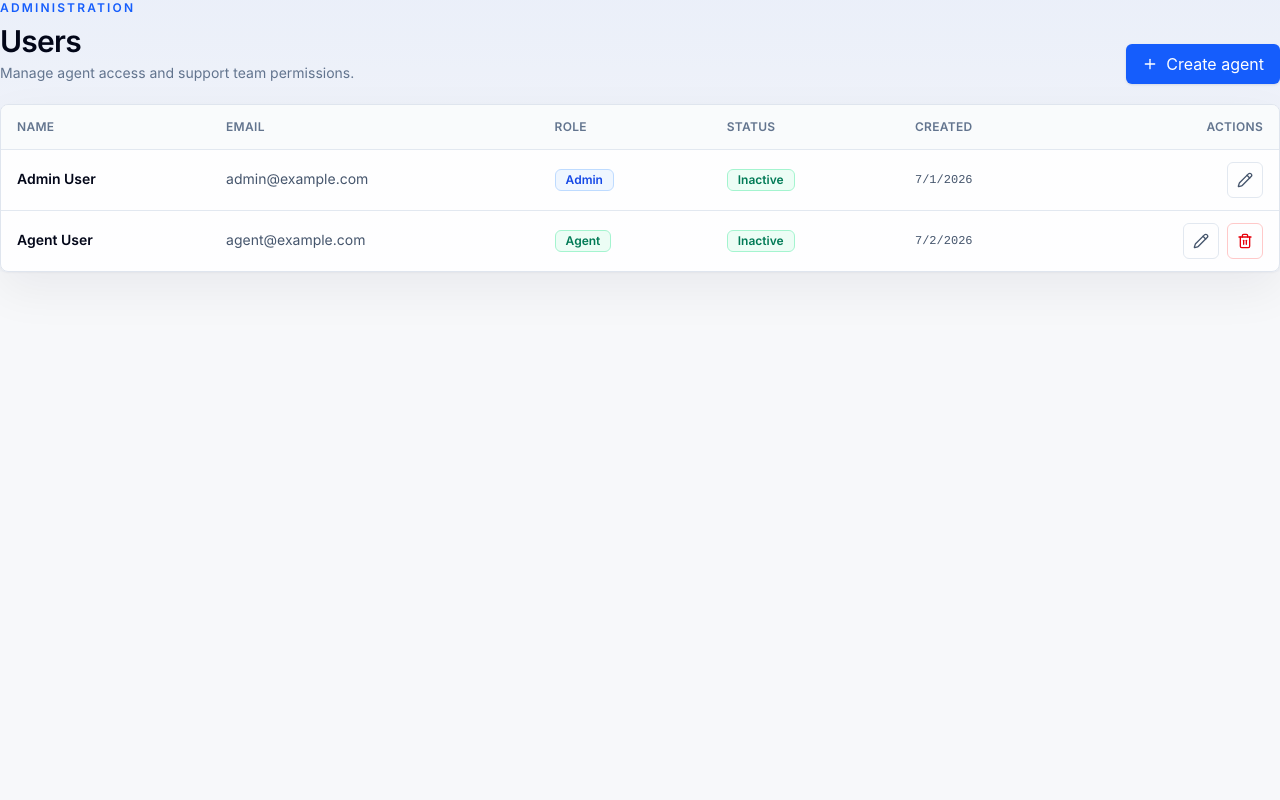
UsersPage › shows the edit-agent dialog with the selected user values
The image size is (1280, 800).
Click the button named "Edit Agent User" at (1201, 240), box [1183, 222, 1219, 258]
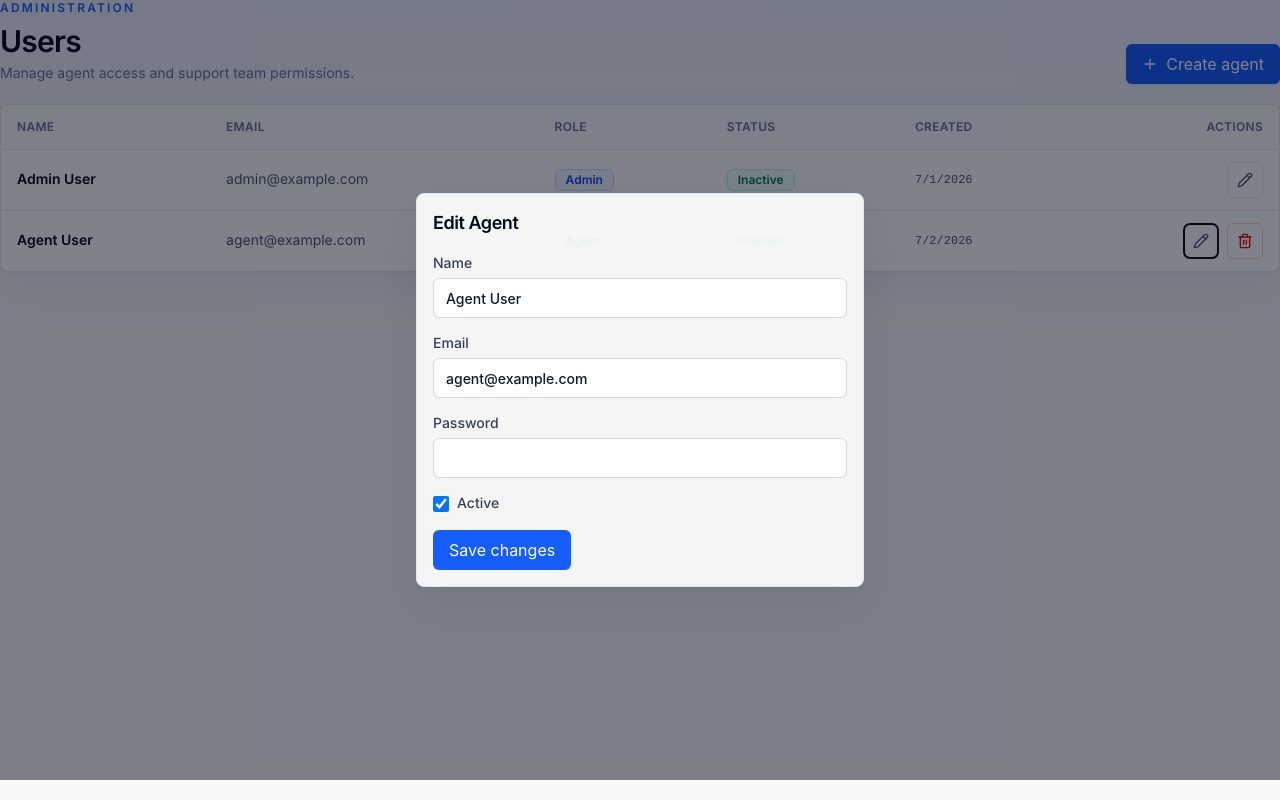
Check: the form "Edit Agent" is shown, box [416, 193, 864, 587]
Check: the field labelled "Name" holds "Agent User", box [433, 278, 847, 318]
Check: the field labelled "Email" holds "agent@example.com", box [433, 358, 847, 398]
